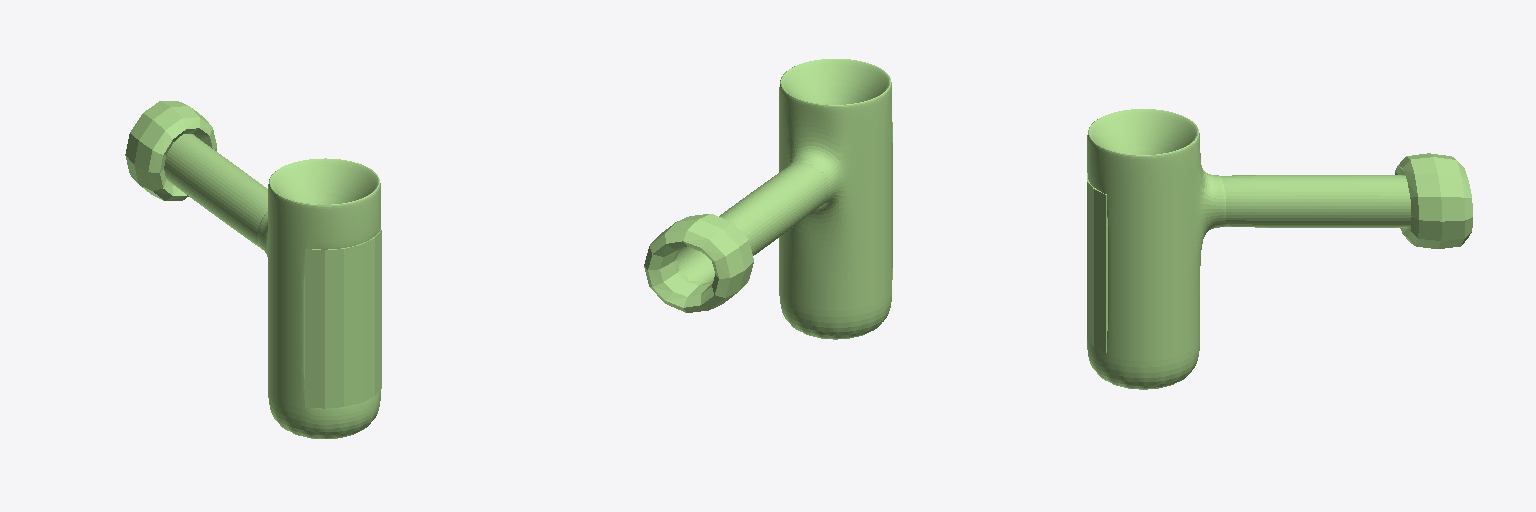
The model's file is bubblerv2.obj.
The picture shows the model from 3 angles: view 1: azimuth 30°, elevation 25°; view 2: azimuth 150°, elevation 25°; view 3: azimuth 270°, elevation 25°; orthographic projection.
Visible parts, largest first — view 1: Cylinder001, Object003, Object001, Object002; view 2: Cylinder001, Object002, Object001; view 3: Cylinder001, Object001, Object002, Object003.
Boxes of the visible parts, x1,y1,x2,y2 form: Cylinder001: [258, 158, 380, 438]; Object003: [305, 230, 381, 408]; Object001: [164, 134, 267, 248]; Object002: [125, 101, 216, 200]; Cylinder001: [779, 59, 892, 339]; Object002: [644, 214, 753, 312]; Object001: [676, 162, 828, 287]; Cylinder001: [1087, 109, 1225, 389]; Object001: [1221, 175, 1411, 227]; Object002: [1395, 153, 1472, 248]; Object003: [1087, 173, 1107, 352].
Bounding box in the file's own units: 1.48 × 3.56 × 5.02.